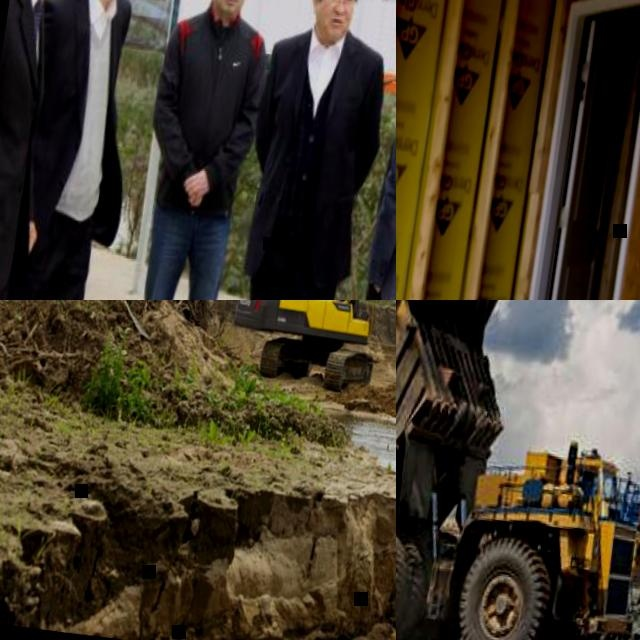NO-Mask: (316, 9, 351, 44), (210, 0, 245, 21)
NO-Safety Vest: (248, 33, 375, 281), (19, 0, 132, 228), (158, 14, 259, 210), (0, 0, 59, 295)
Person: (213, 0, 396, 300), (108, 0, 285, 300), (0, 0, 149, 300), (0, 0, 90, 300)
machinery: (396, 300, 640, 640)
